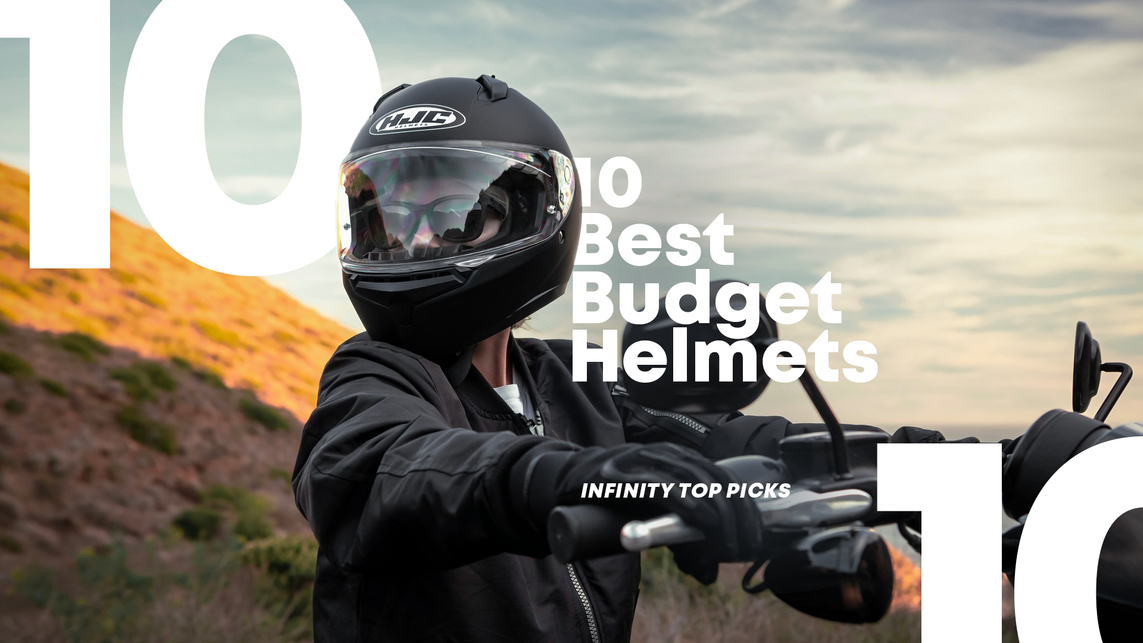helmets: (306, 70, 604, 352)
